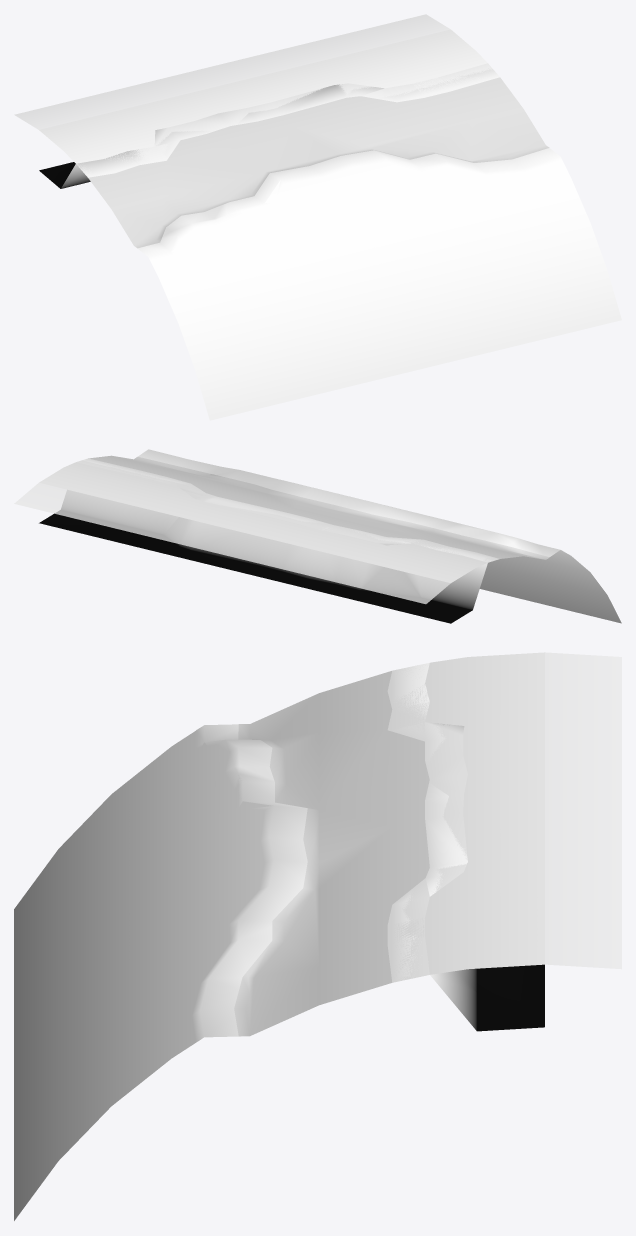
File: grd_In_0.dae
3 renders of one model, top to bottom at view 1: azimuth 30°, elevation 25°; view 2: azimuth 150°, elevation 25°; view 3: azimuth 270°, elevation 25°, orthographic. The views are drawn at different scales.
Parts seen in each view (by area): view 1: grd_In_0; view 2: grd_In_0; view 3: grd_In_0.
Part boxes in pixels (x1,y1,x2,y2): grd_In_0: [14, 14, 621, 420]; grd_In_0: [14, 449, 621, 623]; grd_In_0: [14, 652, 621, 1220].
Bounding box in the file's own units: 512 × 196 × 421.
Materials: 6 (1 with a texture image).
